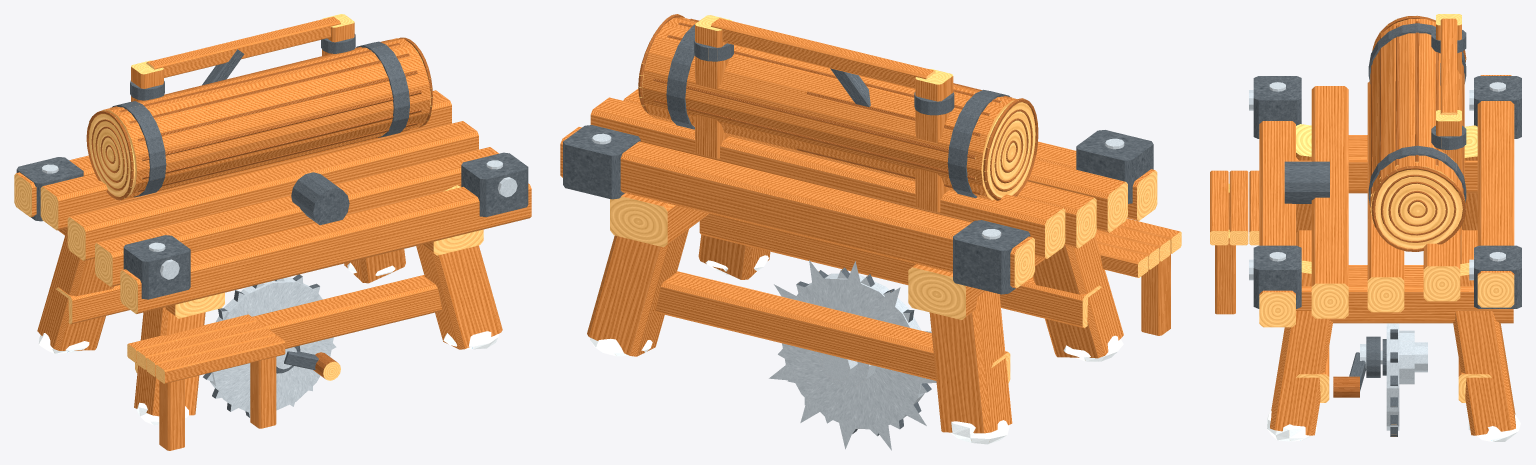
File: shore_saw_bench.glb
3 renders of one model, left to right at view 1: azimuth 30°, elevation 25°; view 2: azimuth 150°, elevation 25°; view 3: azimuth 270°, elevation 25°, orthographic. The views are drawn at different scales.
Visible parts, largest first — view 1: Frame, SawRotor; view 2: Frame, SawRotor; view 3: Frame, SawRotor.
Part boxes in pixels (left/top/right/bottom): Frame: left=14, top=14, right=531, bottom=450; SawRotor: left=203, top=274, right=340, bottom=417; Frame: left=560, top=14, right=1181, bottom=444; SawRotor: left=769, top=260, right=936, bottom=450; Frame: left=1210, top=14, right=1521, bottom=441; SawRotor: left=1333, top=323, right=1427, bottom=436.
Bounding box in the file's own units: 2.68 × 2.39 × 1.78.
1 material, 1 textured.
